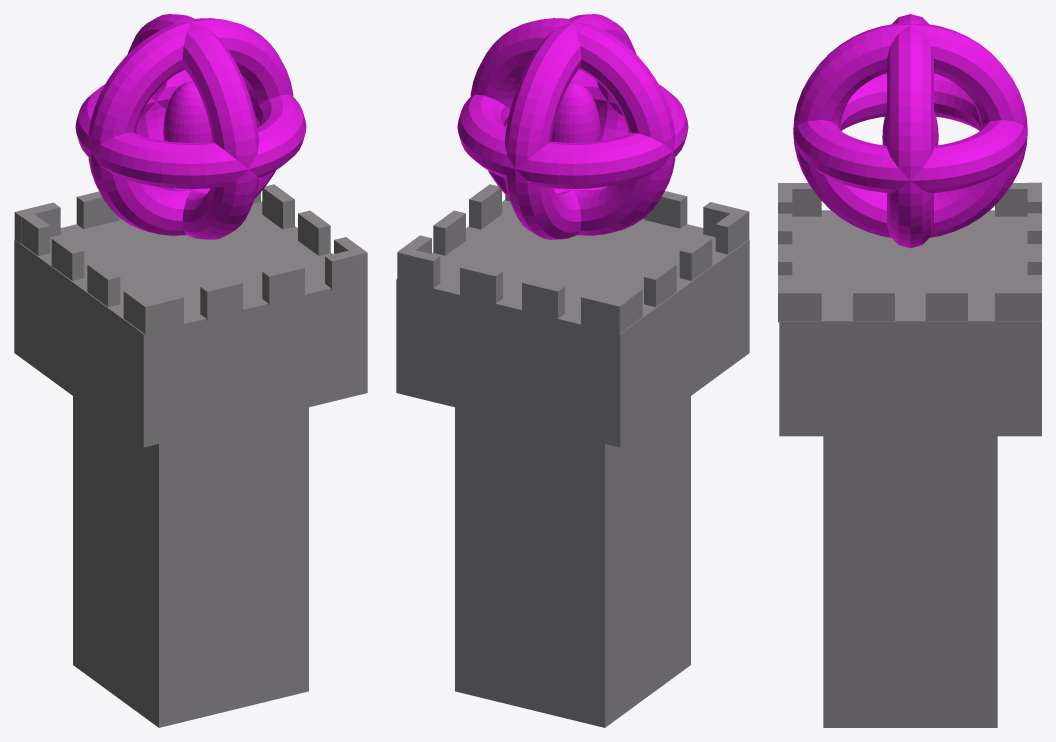
File: MagicTower.glb
3 views of the same model, side by side, from view 1: azimuth 30°, elevation 25°; view 2: azimuth 150°, elevation 25°; view 3: azimuth 270°, elevation 25° (orthographic).
Visible parts, largest first — view 1: Cube.004, Sphere; view 2: Cube.004, Sphere; view 3: Cube.004, Sphere.
Boxes of the visible parts, x1,y1,x2,y2 form: Cube.004: [14, 184, 367, 727]; Sphere: [75, 14, 306, 239]; Cube.004: [396, 184, 749, 727]; Sphere: [457, 14, 688, 239]; Cube.004: [778, 182, 1041, 727]; Sphere: [793, 14, 1027, 248].
Size of the model in its own units: 1.4 by 3.92 by 1.41.
